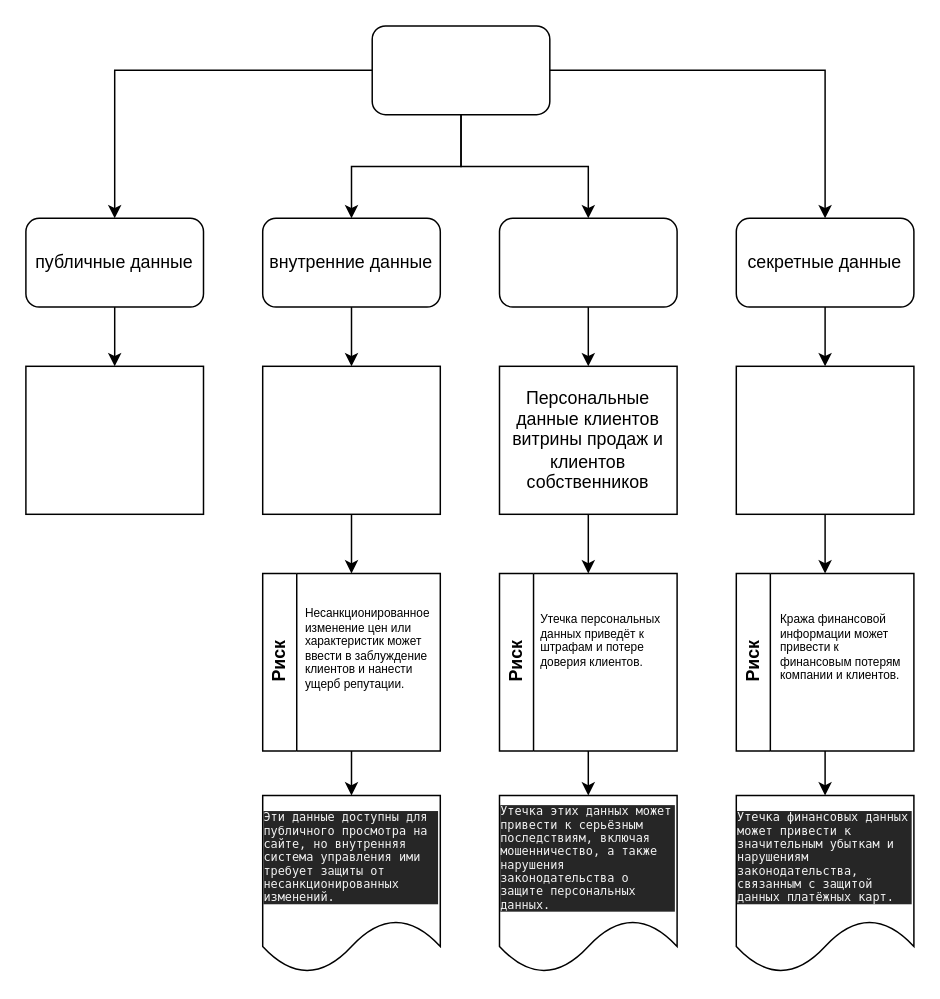
This 940x999 diagram has some shape labels left out. The centre of each missing label's shape, as x and y in pixels:
"Безопасность данных" goes at (460,69).
"Данные об объектах недвижимости" goes at (114,439).
"Данные об объектах недвижимости (витрины продаж)" goes at (350,439).
"Данные онлайн-сделок (витрины продаж) Финансовые данные" goes at (824,439).
"конфиденциальные данные" goes at (587,262).
